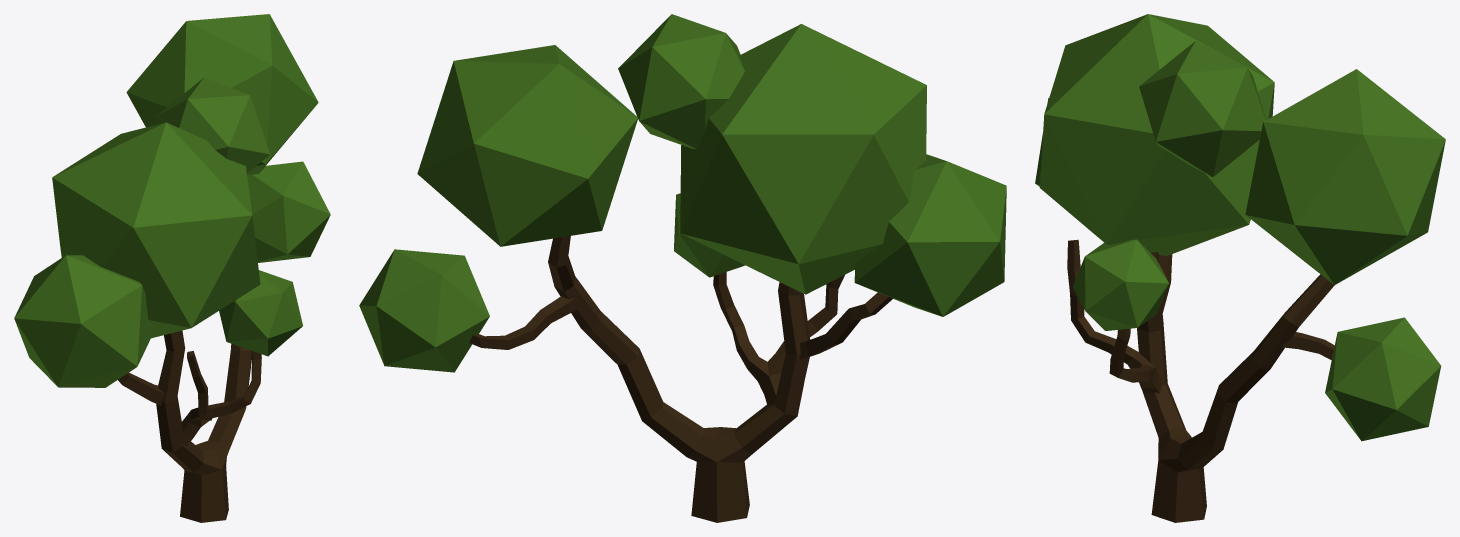
File: low_poly_tree.obj
The picture shows the model from 3 angles, left to right: view 1: azimuth 30°, elevation 25°; view 2: azimuth 150°, elevation 25°; view 3: azimuth 270°, elevation 25°; orthographic projection. The views are drawn at different scales.
Parts seen in each view (by area): view 1: Tree_lp_11; view 2: Tree_lp_11; view 3: Tree_lp_11.
Boxes of the visible parts, box(x1,y1,x2,y2) form: Tree_lp_11: box(14, 14, 330, 522); Tree_lp_11: box(359, 14, 1006, 522); Tree_lp_11: box(1035, 14, 1445, 522).
Size of the model in its own units: 27.98 by 26.54 by 20.8.
